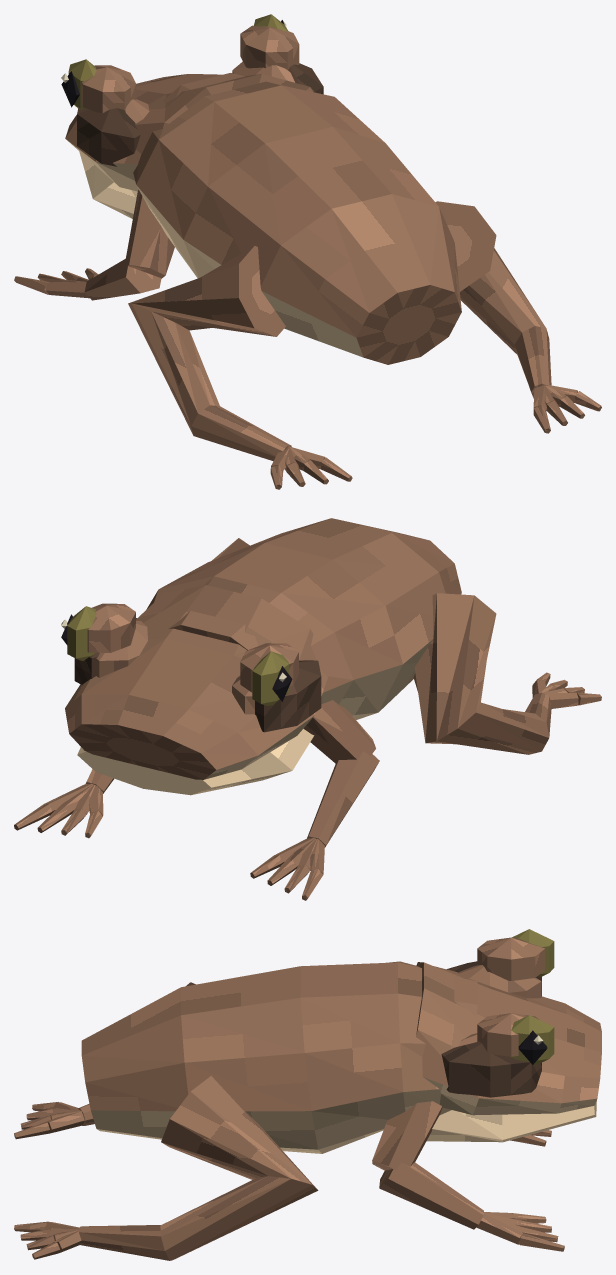
Rendered from mon_wood_frog.glb.
3 renders of one model, top to bottom at view 1: azimuth 30°, elevation 25°; view 2: azimuth 150°, elevation 25°; view 3: azimuth 270°, elevation 25°, orthographic. The views are drawn at different scales.
Parts seen in each view (by area): view 1: closed_body; view 2: closed_body; view 3: closed_body.
Part boxes in pixels (<box>): closed_body: <box>14,14,601,489</box>; closed_body: <box>14,518,601,900</box>; closed_body: <box>14,929,601,1260</box>.
Bounding box in the file's own units: 0.1155 × 0.0691 × 0.1726.
Materials: 1 (1 with a texture image).
